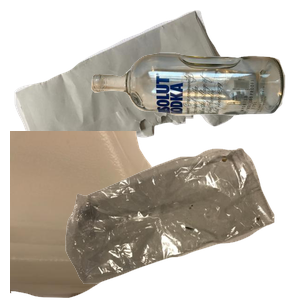glass: (88, 50, 300, 158)
paper: (12, 10, 240, 176)
plastic: (10, 131, 196, 300)
trash: (63, 145, 300, 300)
